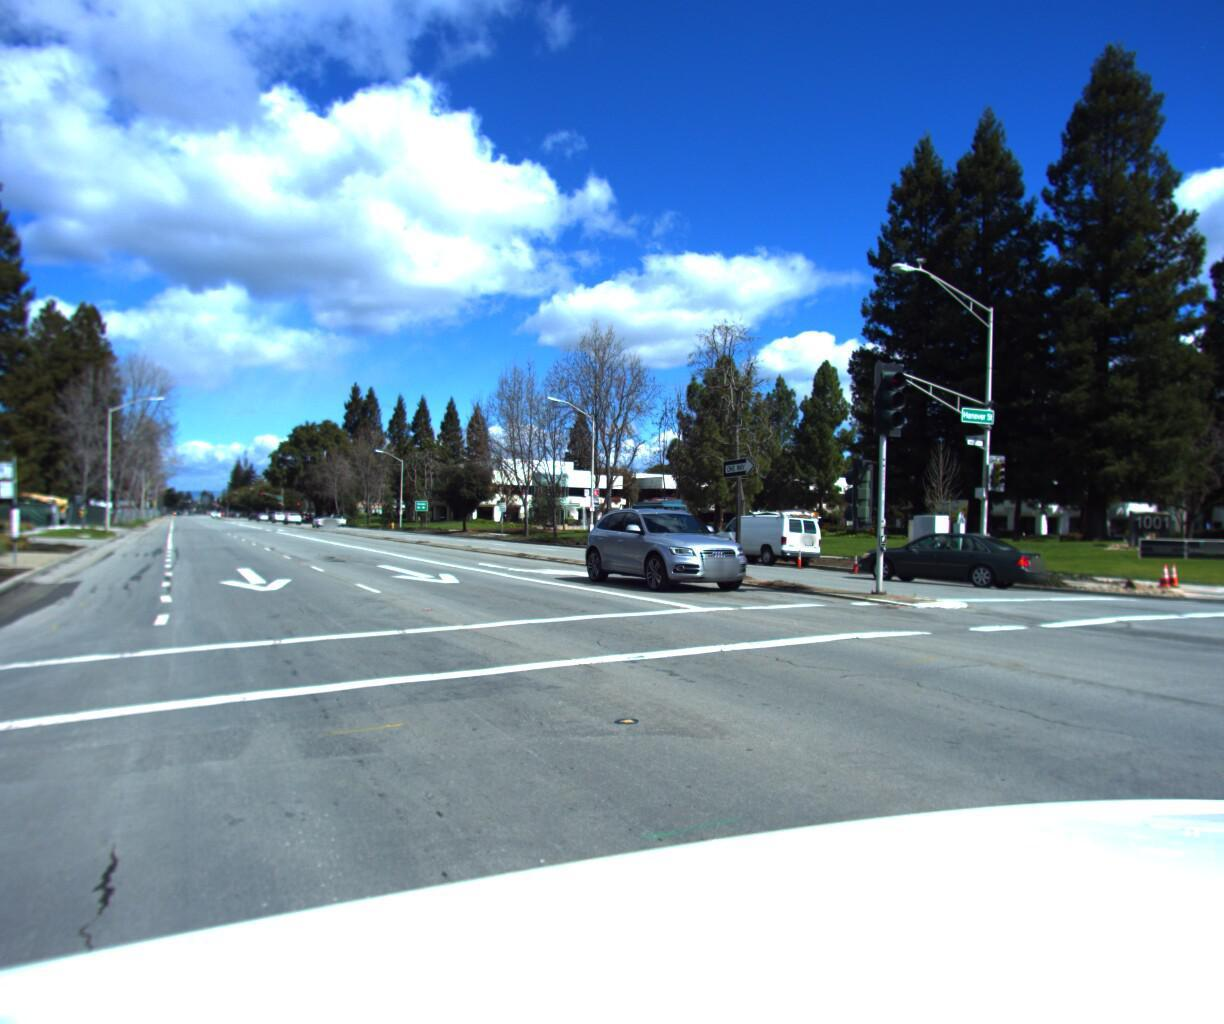car: (578, 511, 776, 606), (853, 535, 1056, 600), (706, 509, 834, 573), (312, 517, 338, 532)
other_vehicle: (0, 492, 87, 529)
